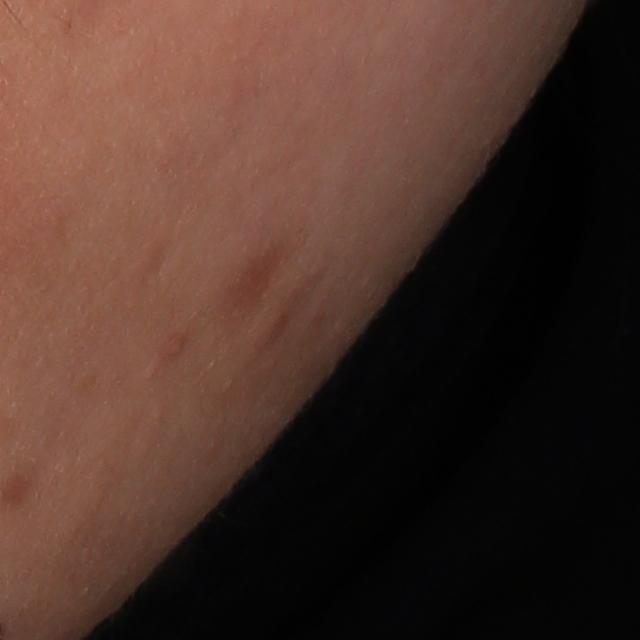papule: (154, 330, 192, 364)
